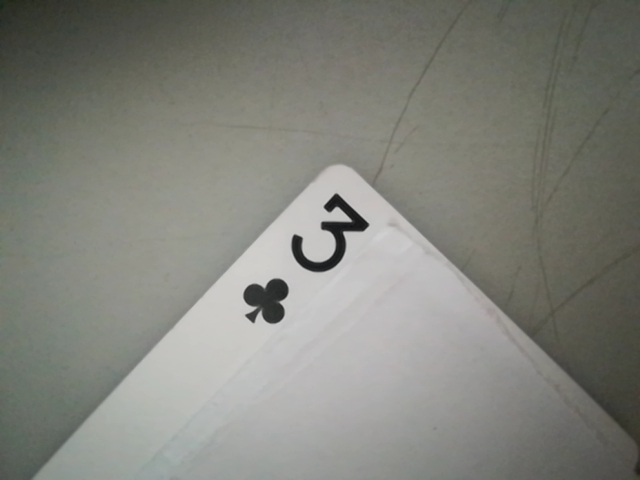mh 3: (233, 187, 386, 329)
